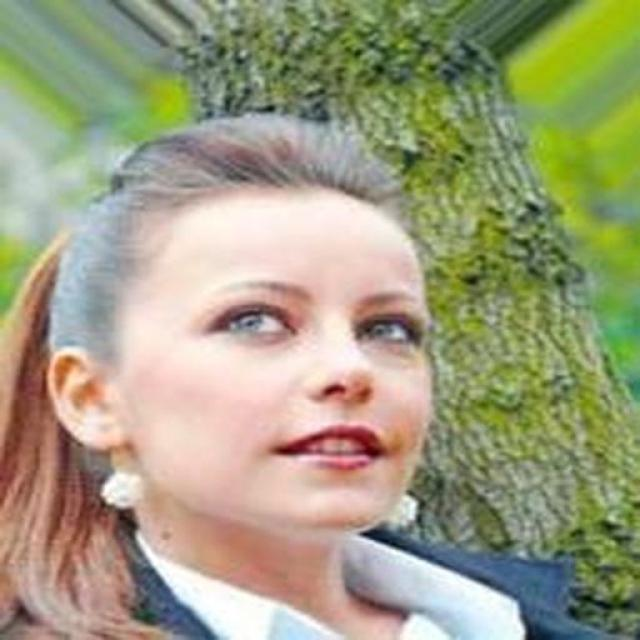bareface: (46, 133, 428, 538)
